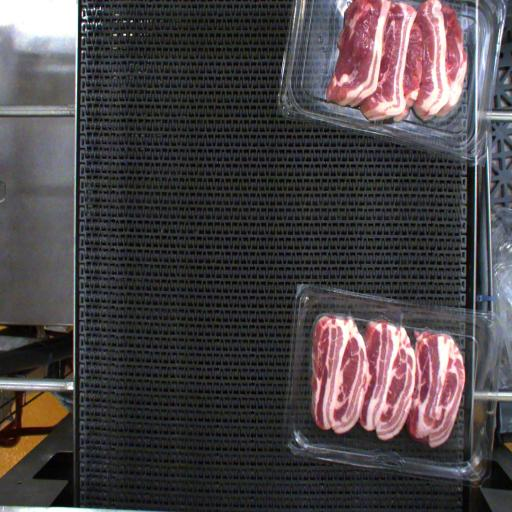unsealed: (311, 310, 457, 369)
